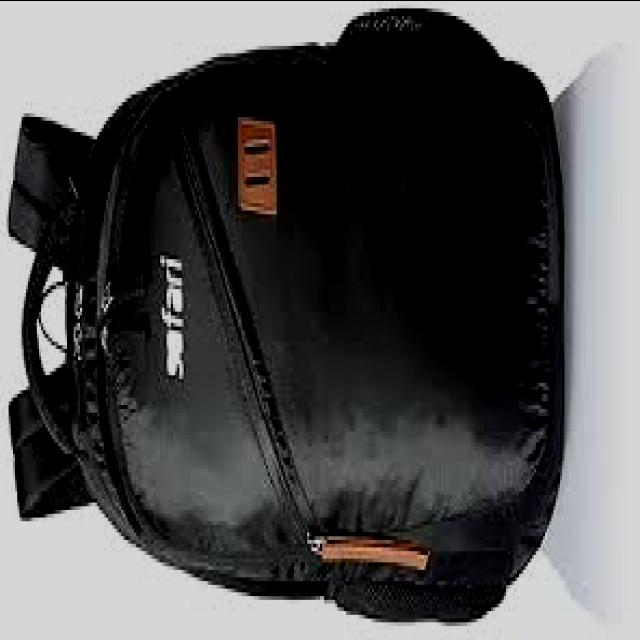backpack: (6, 9, 566, 627)
